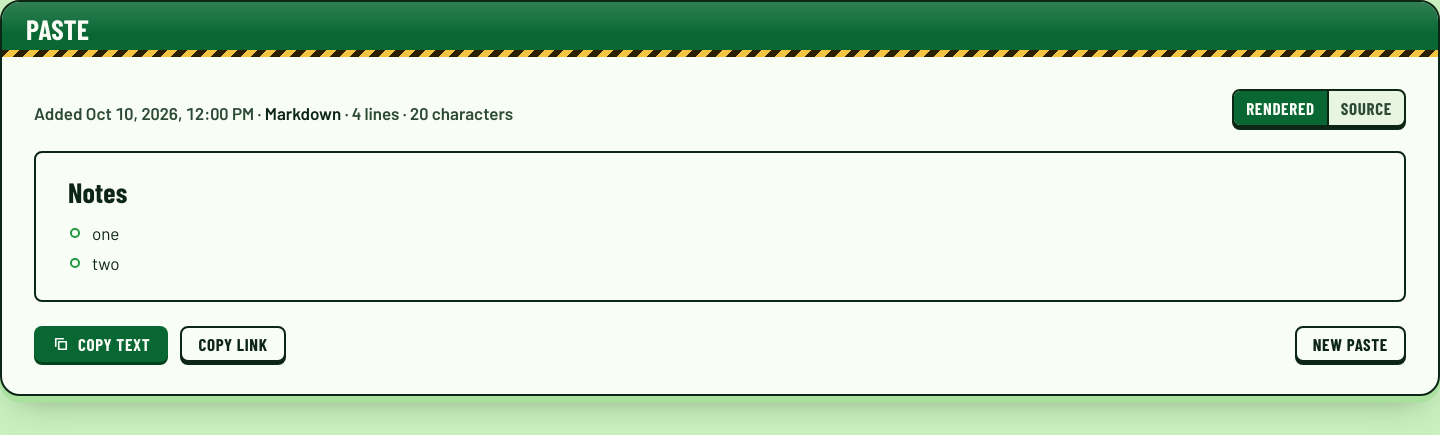
Scenario: PasteViewer › languages › renders Markdown, with its source a click away
The width and height of the screenshot is (1440, 435).
Expected: the heading "Notes" is shown, [68,175,127,209]
Click the radio button labelled "Source": (1365, 108) [1327,91,1404,125]
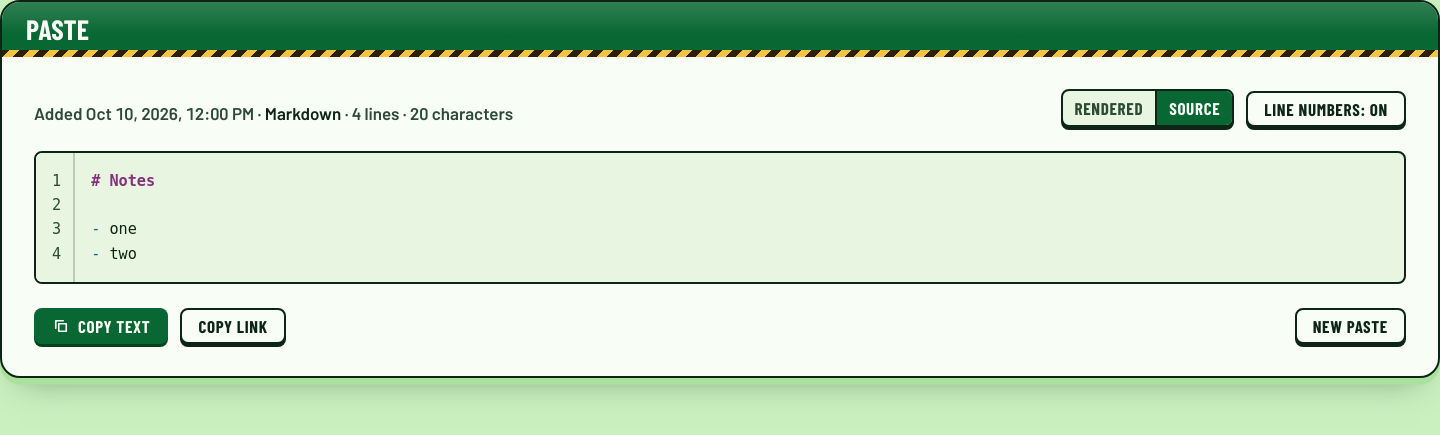
Expected: the button "Line numbers: on" is shown, [1246,91,1406,127]
